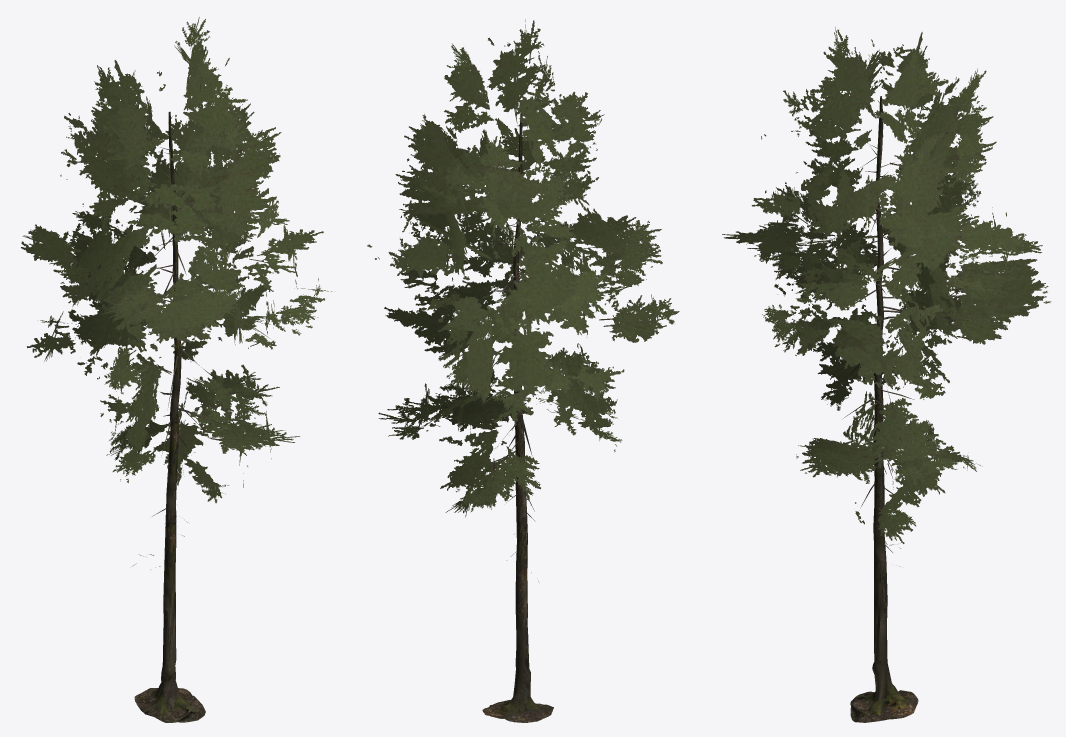
Rendered from fir_b.glb.
The picture shows the model from 3 angles, left to right: view 1: azimuth 30°, elevation 25°; view 2: azimuth 150°, elevation 25°; view 3: azimuth 270°, elevation 25°; orthographic projection. The views are drawn at different scales.
Parts seen in each view (by area): view 1: foliage, fir_tree_01_b_LOD0 (×2); view 2: foliage, fir_tree_01_b_LOD0 (×2); view 3: foliage, fir_tree_01_b_LOD0 (×2).
Part boxes in pixels (x1,y1,x2,y2): foliage: (21, 17, 332, 503); fir_tree_01_b_LOD0 (×2): (132, 112, 220, 722); foliage: (367, 19, 679, 517); fir_tree_01_b_LOD0 (×2): (454, 113, 578, 722); foliage: (722, 27, 1051, 543); fir_tree_01_b_LOD0 (×2): (843, 96, 924, 722).
Size of the model in its own units: 5.63 by 14.06 by 6.24.
Materials: 3 (3 with a texture image).
